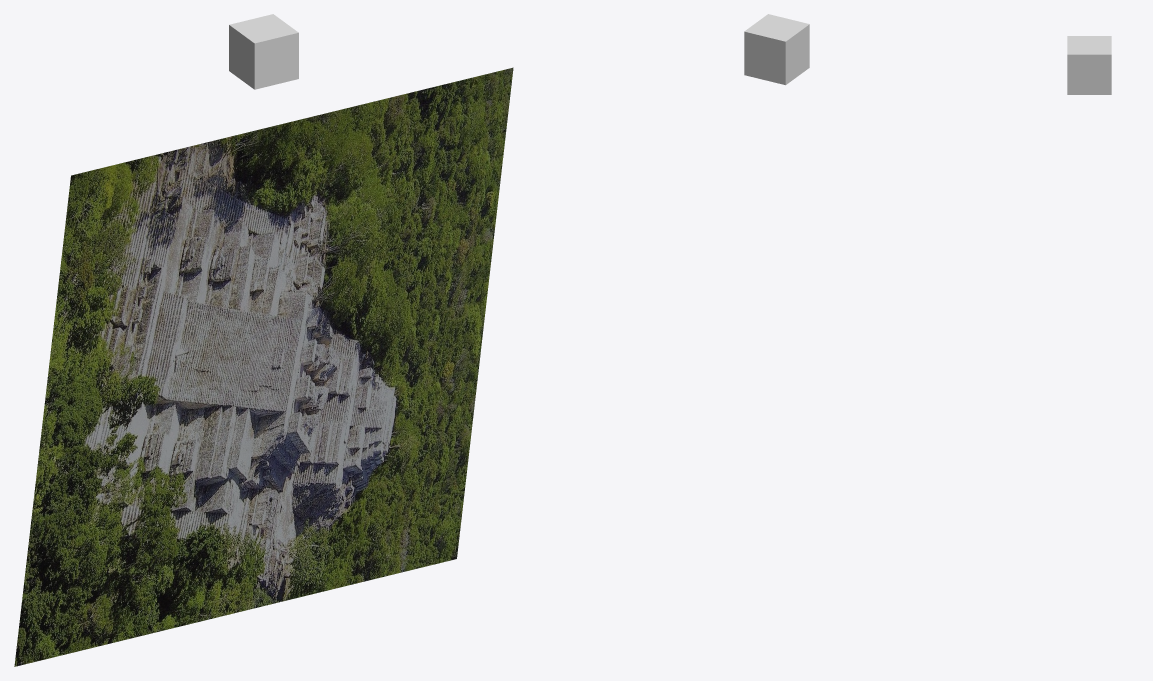
Rendered from Calakmul.glb.
3 renders of one model, left to right at view 1: azimuth 30°, elevation 25°; view 2: azimuth 150°, elevation 25°; view 3: azimuth 270°, elevation 25°, orthographic. The views are drawn at different scales.
Visible parts, largest first — view 1: Mesh_0, Cube; view 2: Cube; view 3: Cube.
Part boxes in pixels (x1=…): Mesh_0: x1=14, y1=67, x2=513, y2=666; Cube: x1=229, y1=14, x2=298, y2=89; Cube: x1=744, y1=14, x2=809, y2=85; Cube: x1=1067, y1=36, x2=1111, y2=94.
Bounding box in the file's own units: 20 × 26.13 × 4.43.
2 materials, 1 textured.
